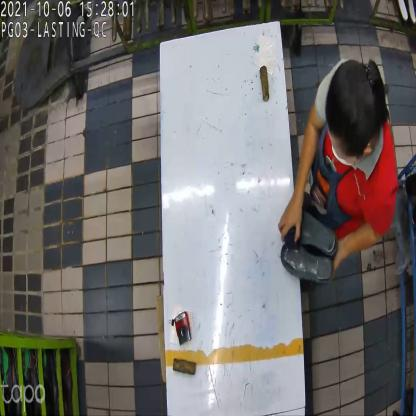shoes: (278, 201, 338, 286)
stamp: (172, 313, 195, 345), (283, 219, 304, 252)
